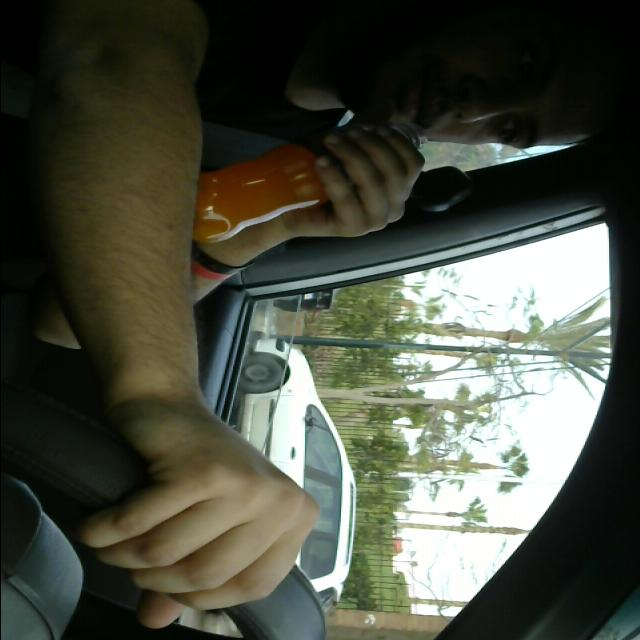drinking: (175, 104, 421, 250)
